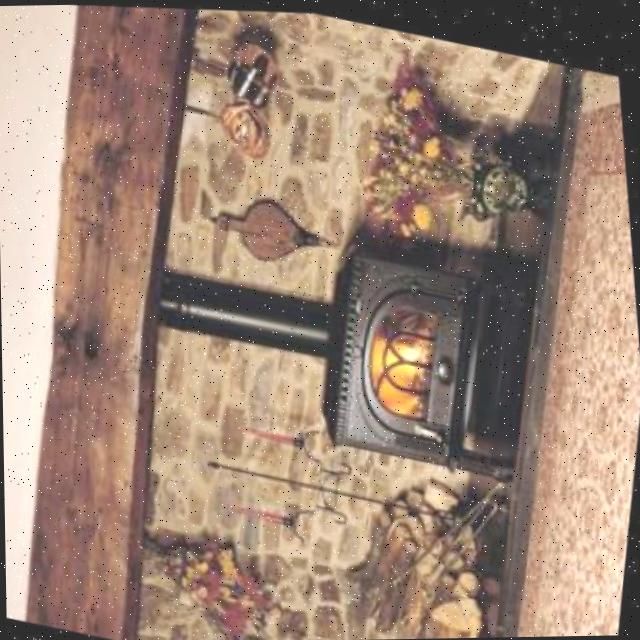fire: (357, 319, 443, 426)
